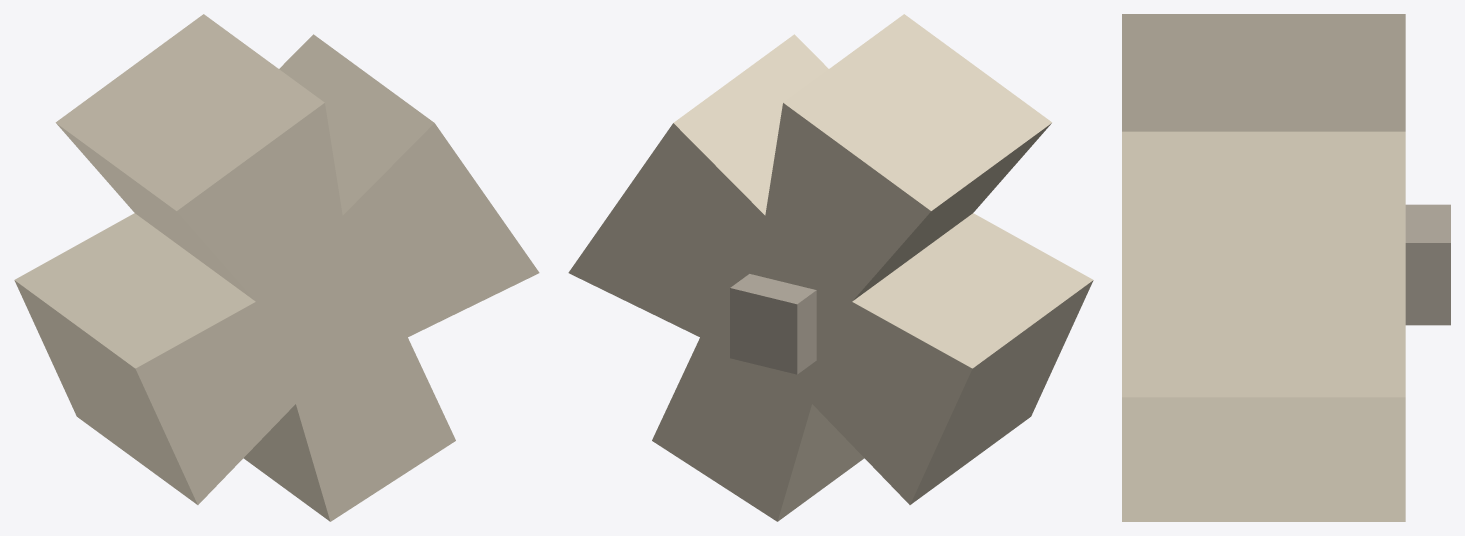
File: historic-palestine-03_22_3454_3167.glb
3 views of the same model, side by side, from view 1: azimuth 30°, elevation 25°; view 2: azimuth 150°, elevation 25°; view 3: azimuth 270°, elevation 25° (orthographic). The views are drawn at different scales.
Parts seen in each view (by area): view 1: Building_; view 2: Building_, Roof access hut; view 3: Building_, Roof access hut.
Boxes of the visible parts, bbox=[...] form: Building_: bbox=[14, 14, 539, 521]; Building_: bbox=[568, 14, 1093, 521]; Roof access hut: bbox=[730, 274, 816, 374]; Building_: bbox=[1122, 14, 1405, 521]; Roof access hut: bbox=[1405, 204, 1450, 325].
Size of the model in its own units: 14.45 by 14.36 by 8.7.
